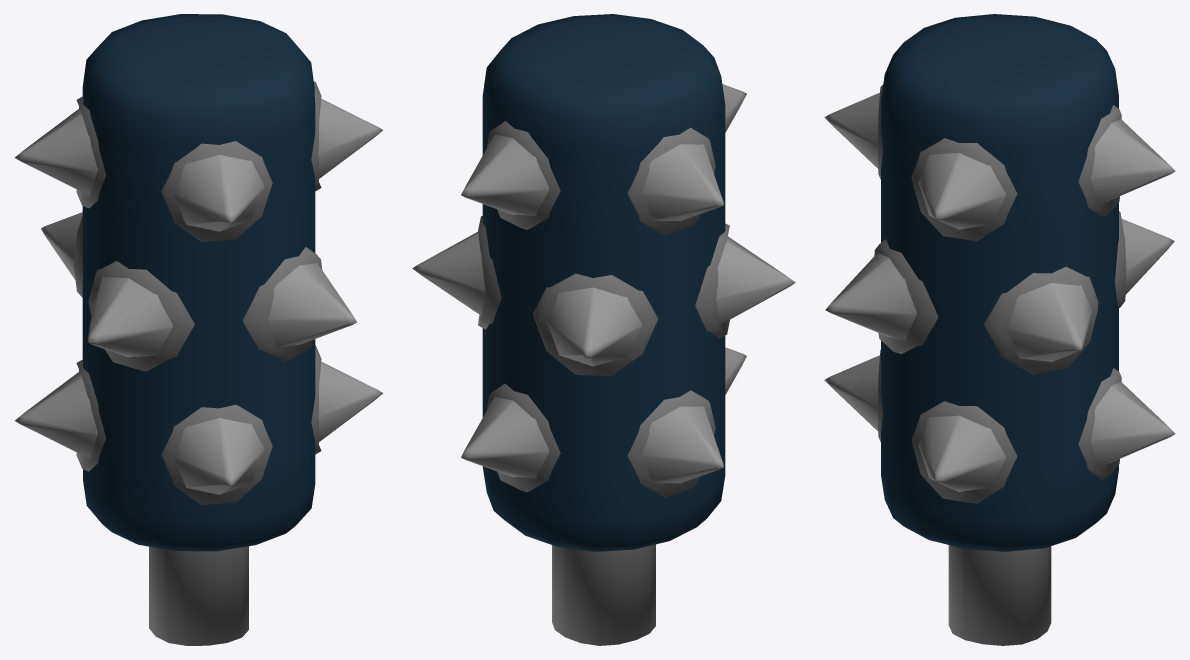
The model's file is pendulumHead-village-42.glb.
The picture shows the model from 3 angles, left to right: view 1: azimuth 30°, elevation 25°; view 2: azimuth 150°, elevation 25°; view 3: azimuth 270°, elevation 25°; orthographic projection.
Parts seen in each view (by area): view 1: piece; view 2: piece; view 3: piece.
Part boxes in pixels (<box>): piece: <box>14,14,383,645</box>; piece: <box>412,14,795,645</box>; piece: <box>824,14,1175,645</box>.
Size of the model in its own units: 1.72 by 3.12 by 1.72.
